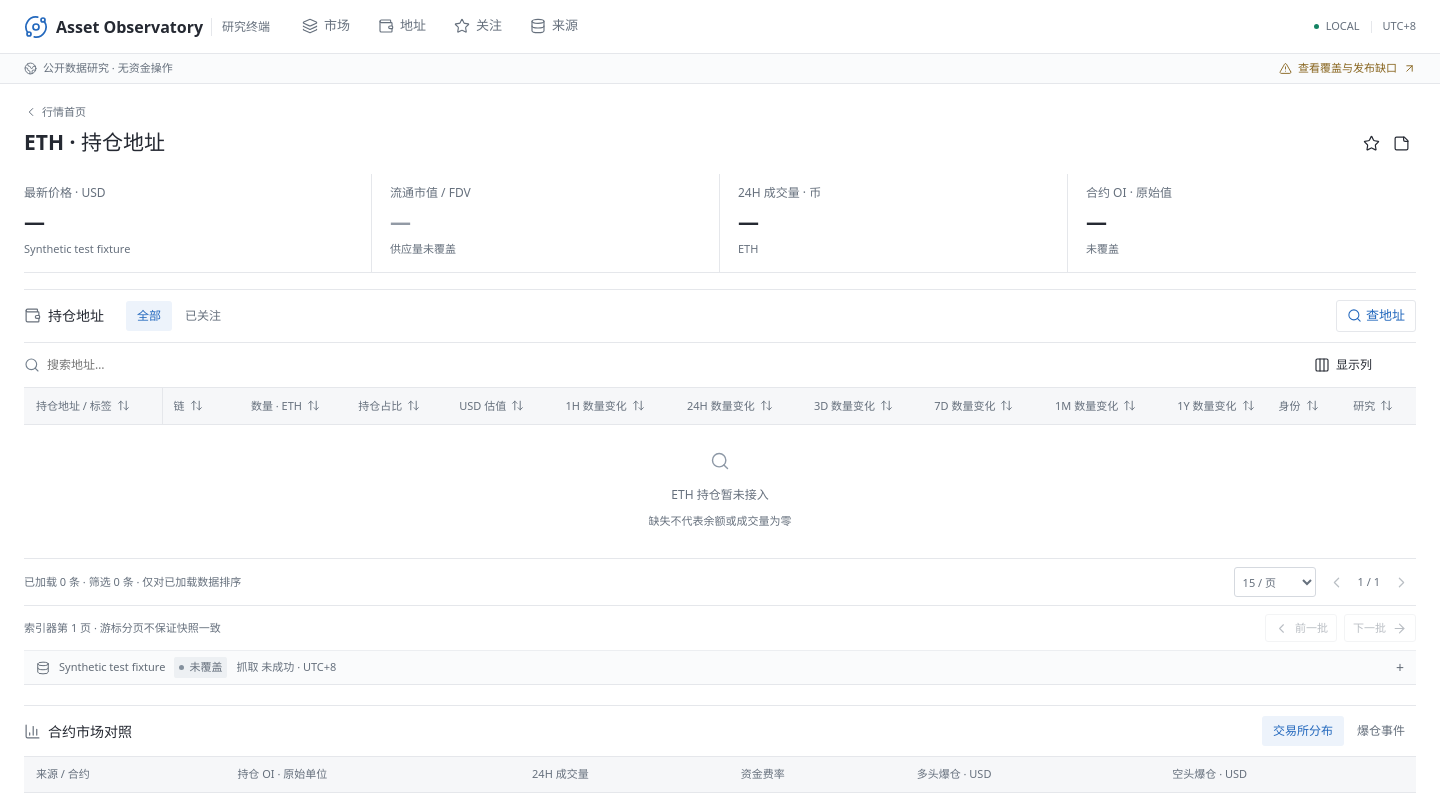
Test case: empty ETH holder page can preview an address without silently querying LINK
This screenshot has width=1440, height=810.
Expected: the text "ETH 持仓暂未接入" is shown, [671,486,769,503]
Click the button "查地址": (1376, 316) [1336,300,1416,332]
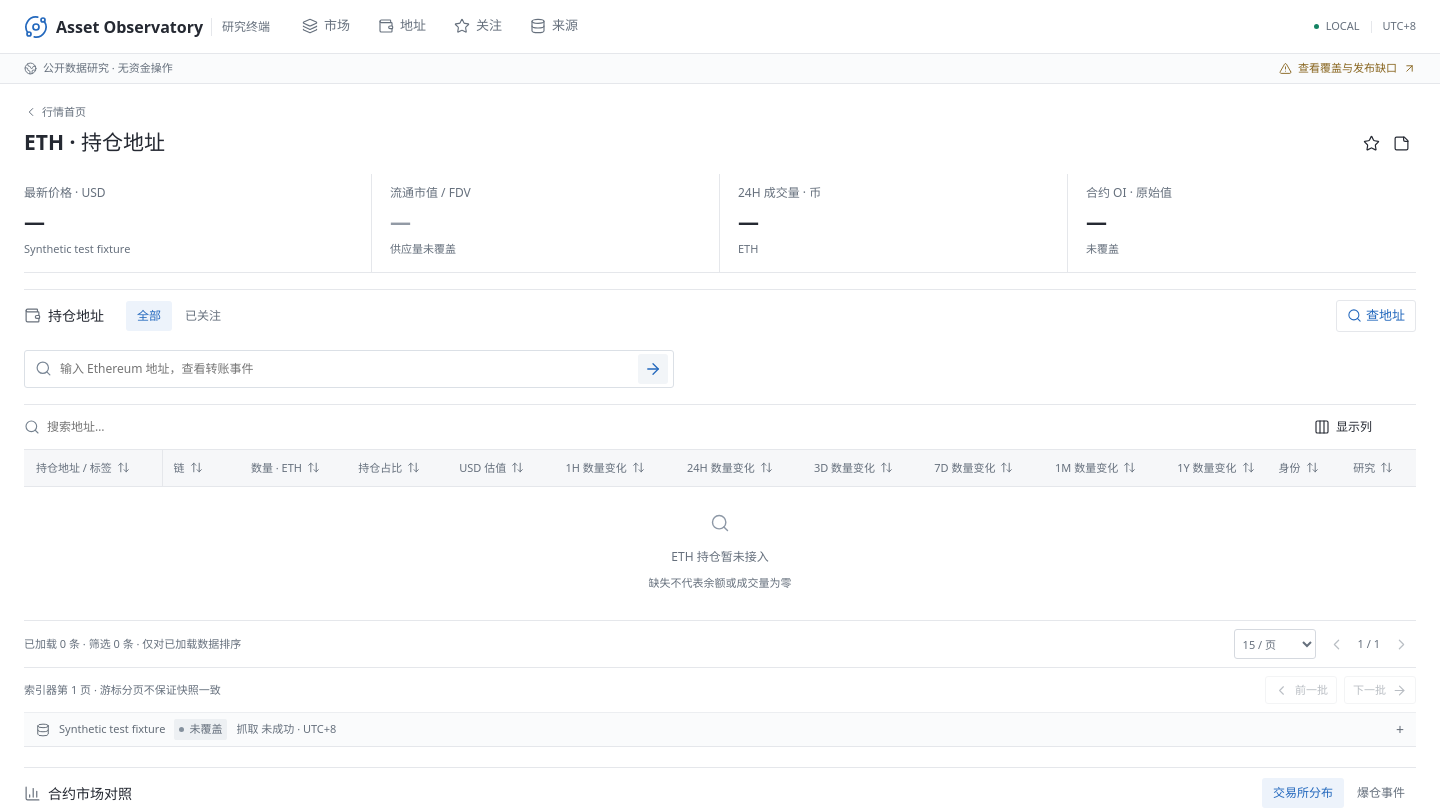
In the field named "查询 Ethereum 地址": (345, 369) [60,355,630,383], type "0x0000000000000000000000000000000000000001"
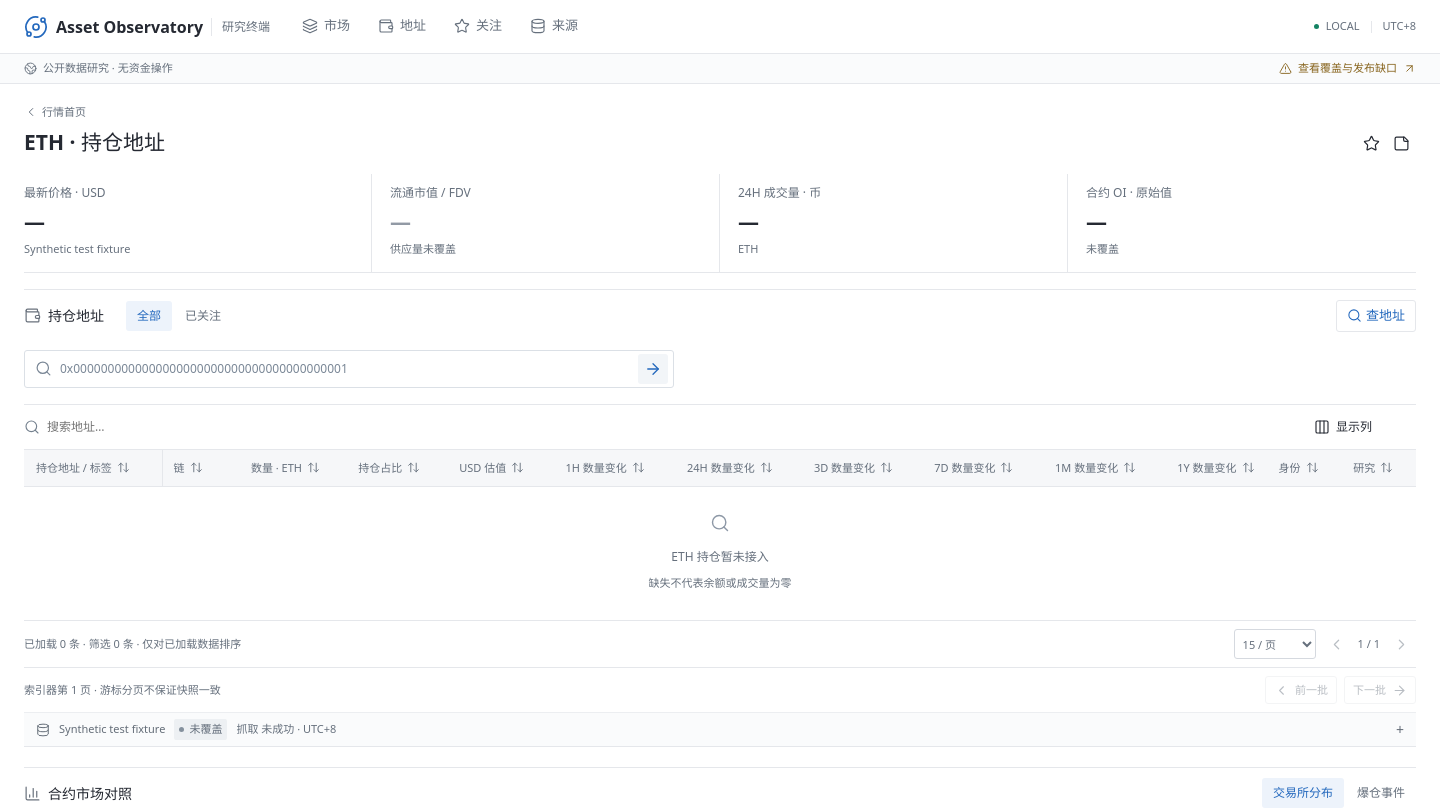
Click the button named "查询地址": (653, 369) [638,354,668,384]
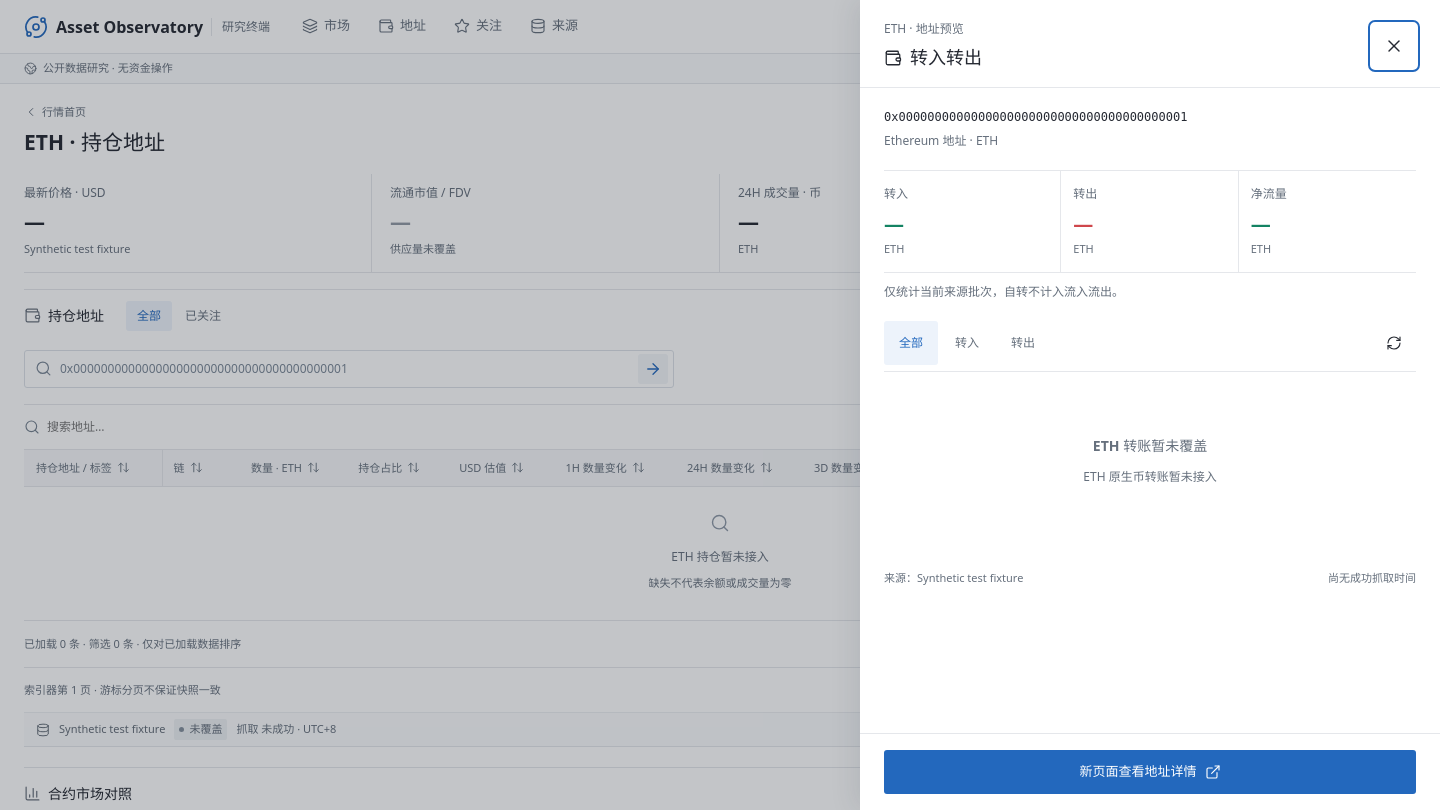
Result: the text "ETH 转账暂未覆盖" is shown at [1093,435,1207,456]
